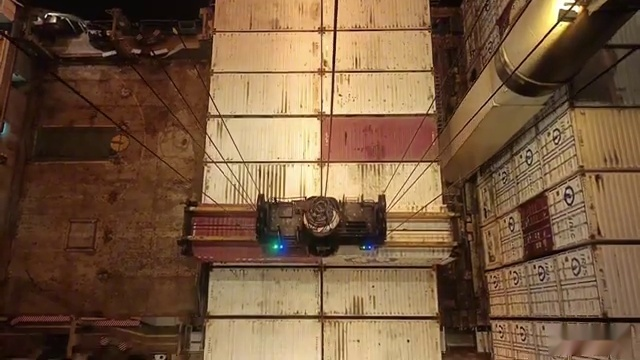container: (180, 204, 465, 270), (203, 161, 441, 211), (204, 115, 444, 164), (206, 267, 440, 317), (203, 317, 449, 360), (207, 71, 436, 117), (211, 32, 435, 72)
guide_mark: (107, 329, 515, 349), (80, 345, 555, 360)
spreader: (175, 192, 471, 259)
target_slot: (167, 193, 466, 266)
